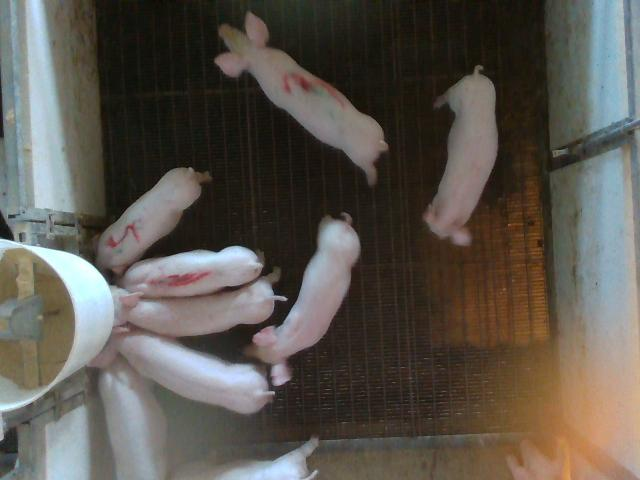pig-1: (120, 246, 264, 298)
pig-3: (215, 12, 389, 184)
pig-5: (96, 168, 211, 275)
